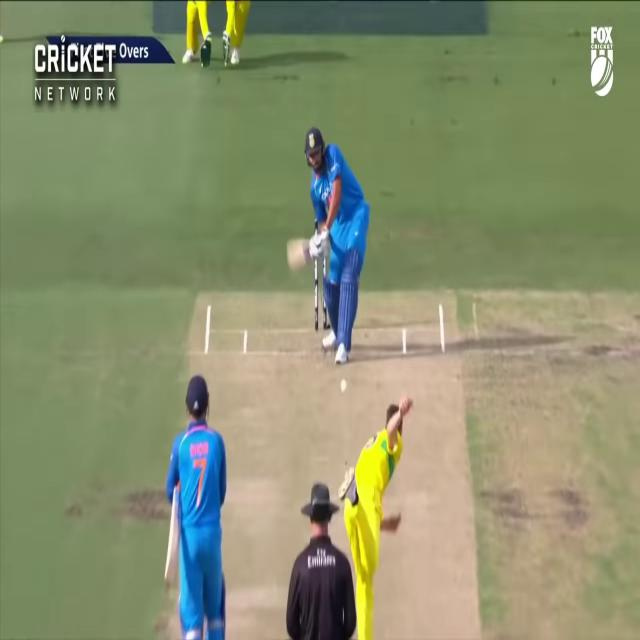ball: (340, 380, 347, 392)
stump: (314, 249, 330, 333), (323, 290, 332, 330)
